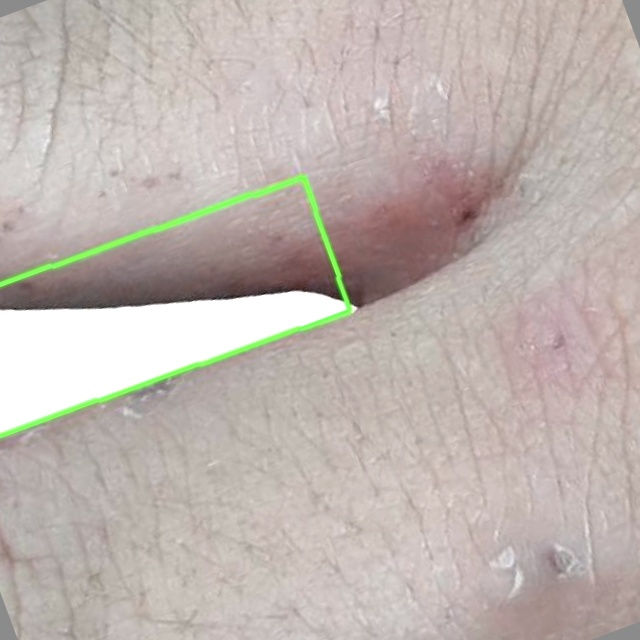Scabies: (0, 177, 350, 436)
